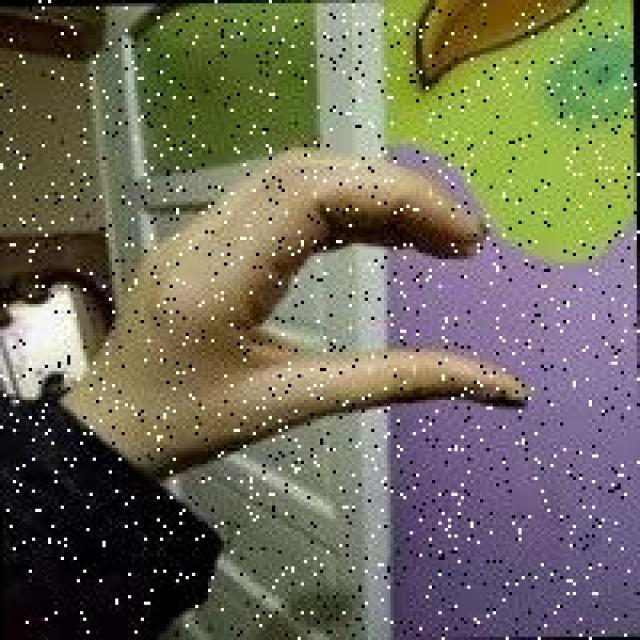C: (99, 134, 538, 452)
